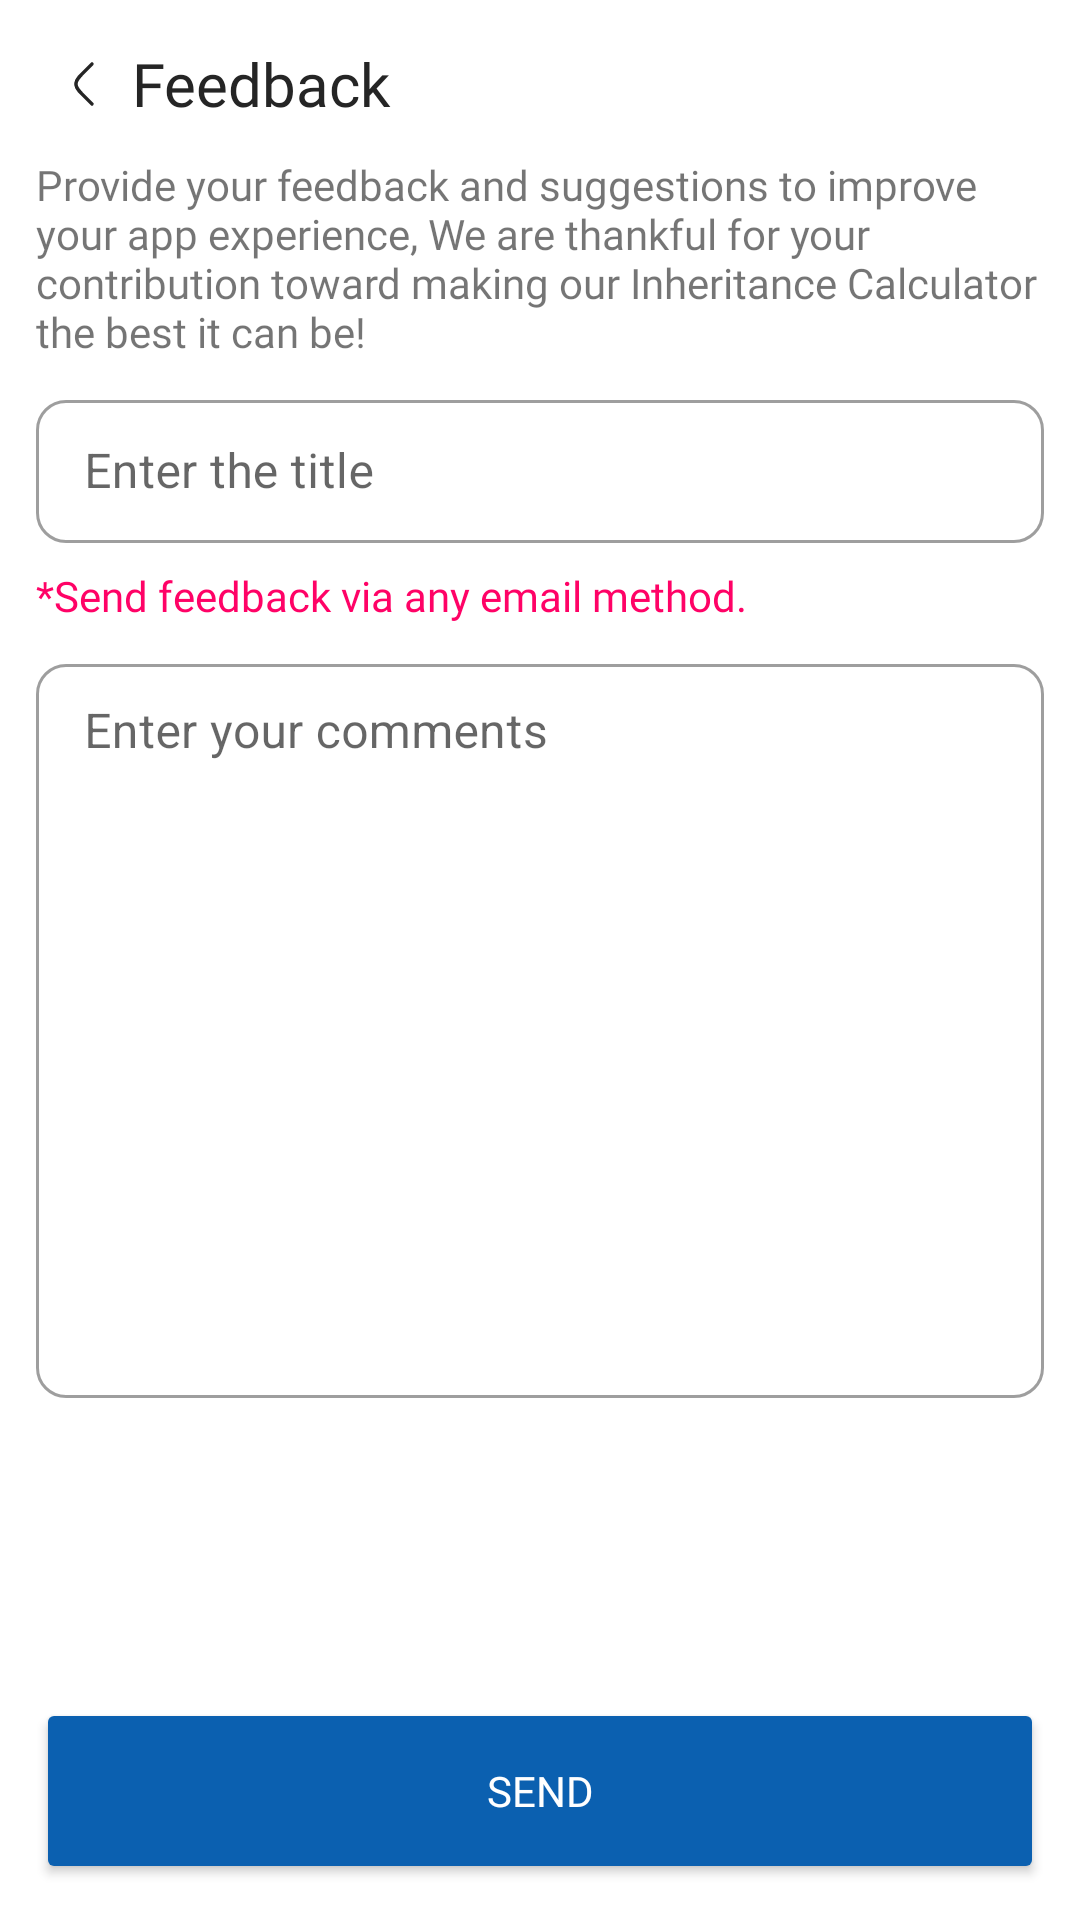

Icons on this 1080*1920 Android screen, each with its box as (x1, y1, x2, y2):
left: (74, 62, 94, 106)
